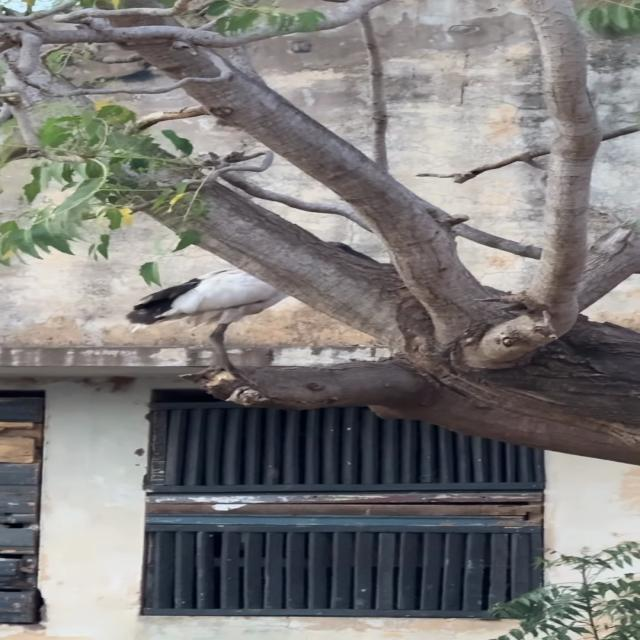Birds-Ibis: (119, 238, 388, 386)
